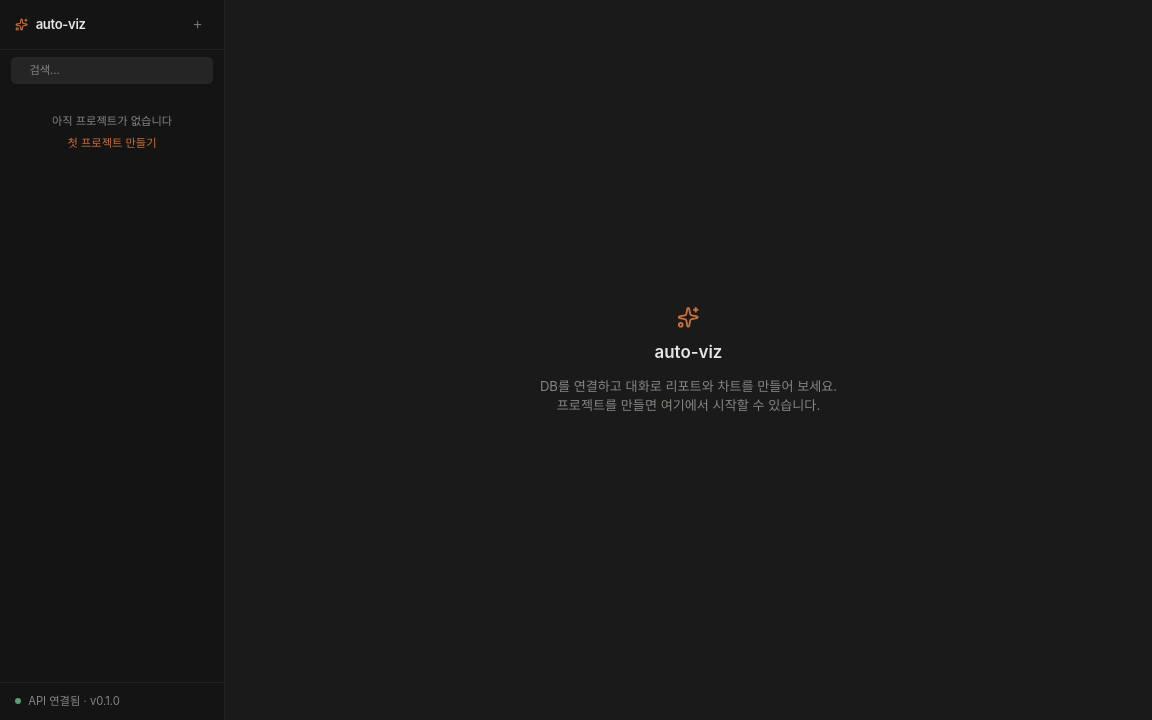
it: 사이드바 프로젝트 목록 › 프로젝트가 없으면 안내를 보여주고, 만들면 연결 설정으로 이동한다
Click the button "첫 프로젝트 만들기" at (112, 144), box [67, 136, 156, 151]
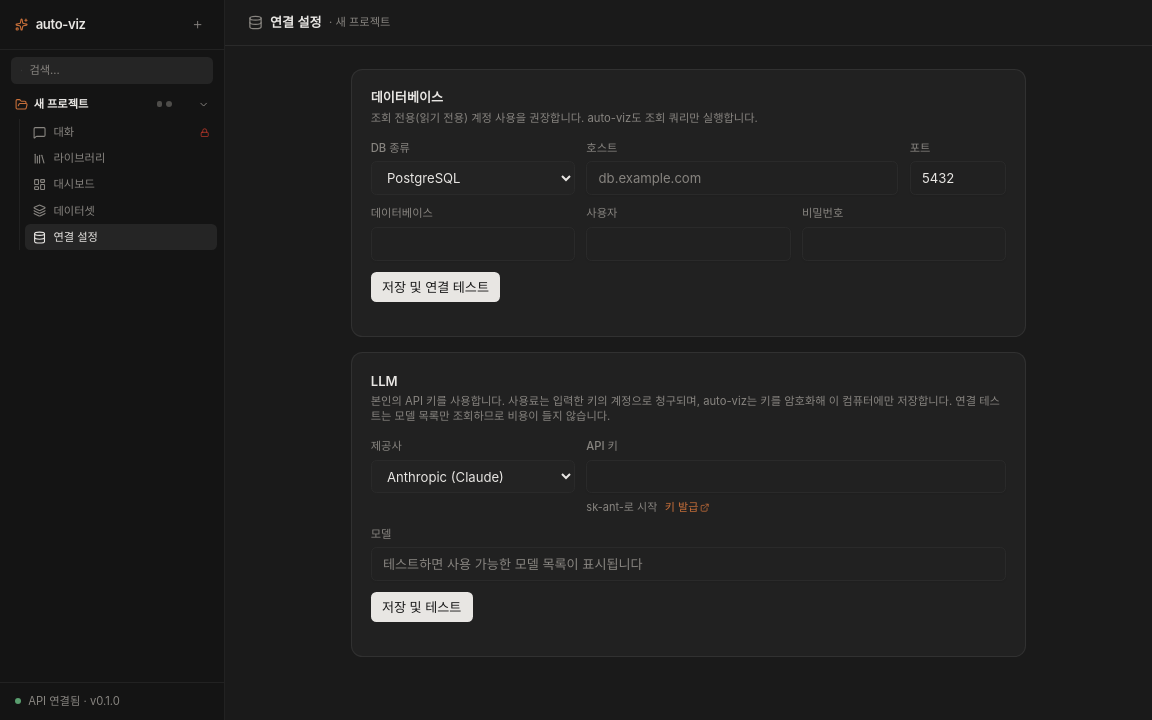
Expected: the heading "연결 설정" is shown, [270, 13, 322, 32]
Expected: the text "새 프로젝트" is shown, [34, 97, 88, 111]
